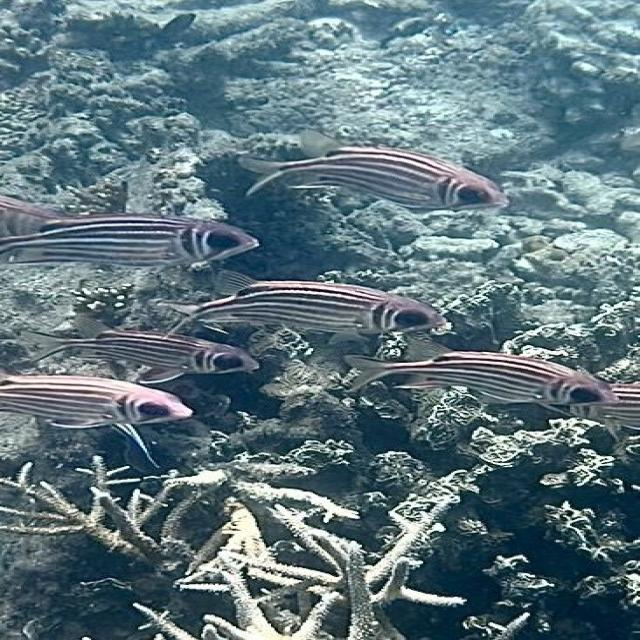Asker Baligi: (232, 124, 515, 225), (135, 273, 468, 350), (11, 204, 265, 281), (378, 342, 618, 418), (0, 367, 227, 443)
